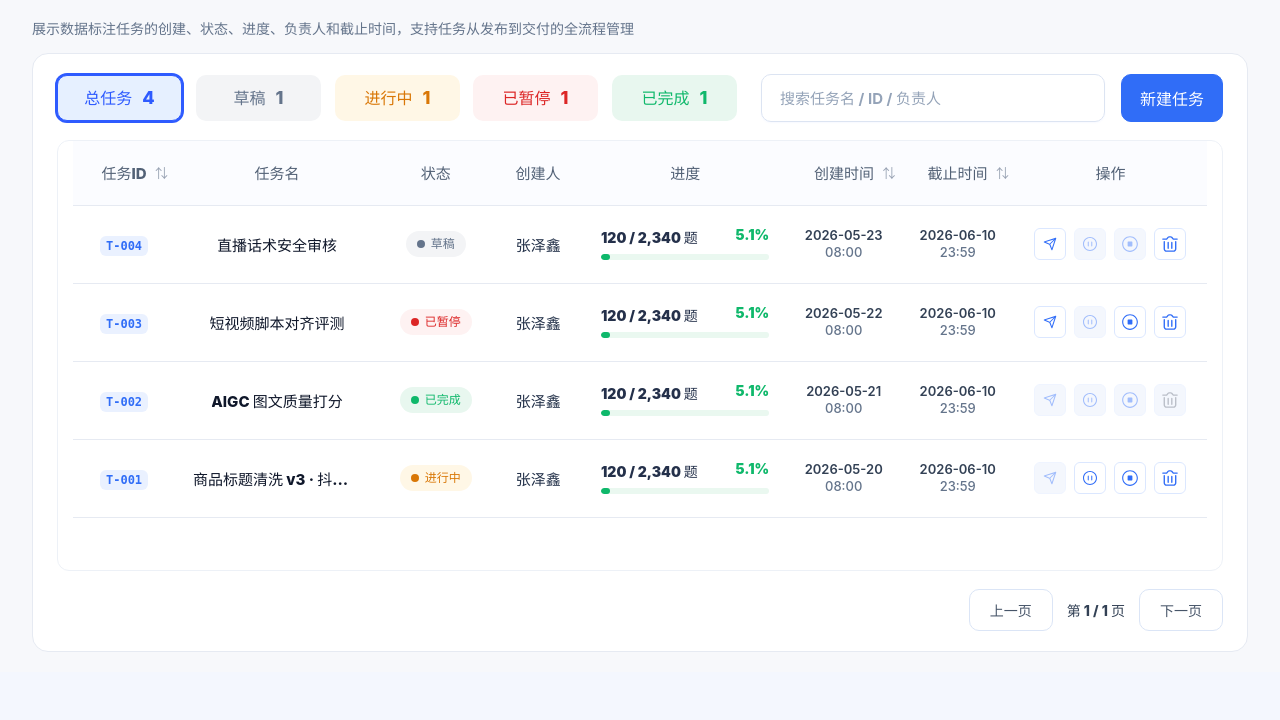
Test: TaskListPage › 点击结束按钮的 SVG 图标不会继续冒泡打开任务抽屉
What coordinates should you click on to do the following:
click the button named "结束 商品标题清洗 v3 · 抖音电商"
I would click on:
 (1131, 478)
Its box is [1115, 462, 1147, 494].
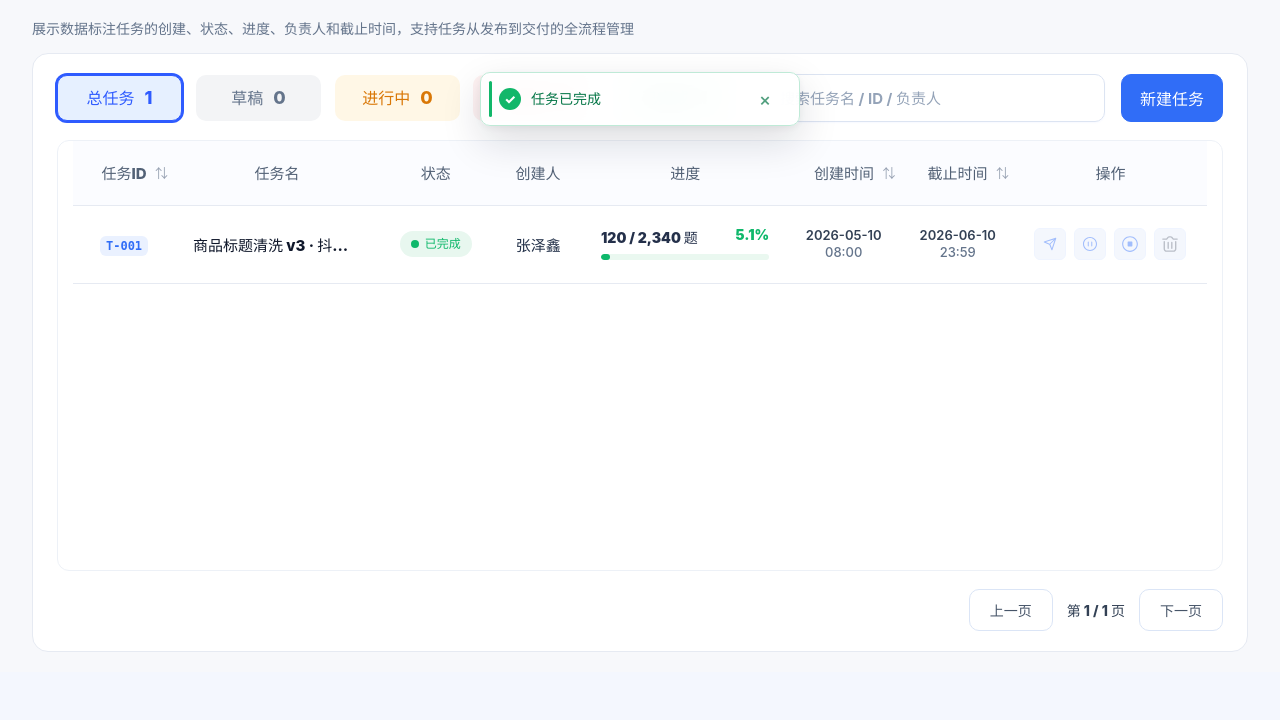
Now the text "任务已完成" is shown, box [531, 90, 601, 107]
